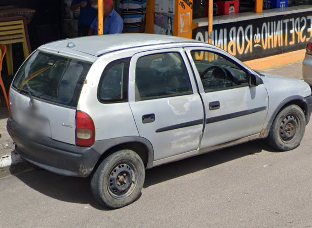car: (9, 33, 312, 207)
